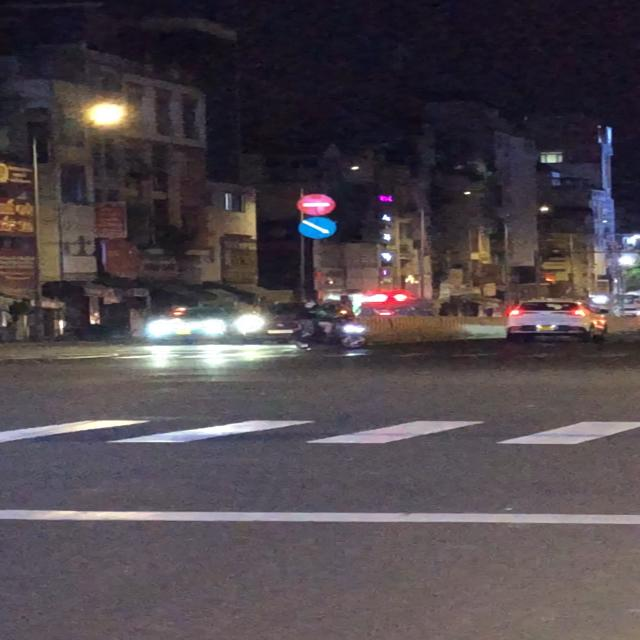Bien bao cam di nguoc chieu: (295, 193, 338, 217)
Bien bao huong phai di vong chuong ngai vat: (297, 217, 339, 240)
